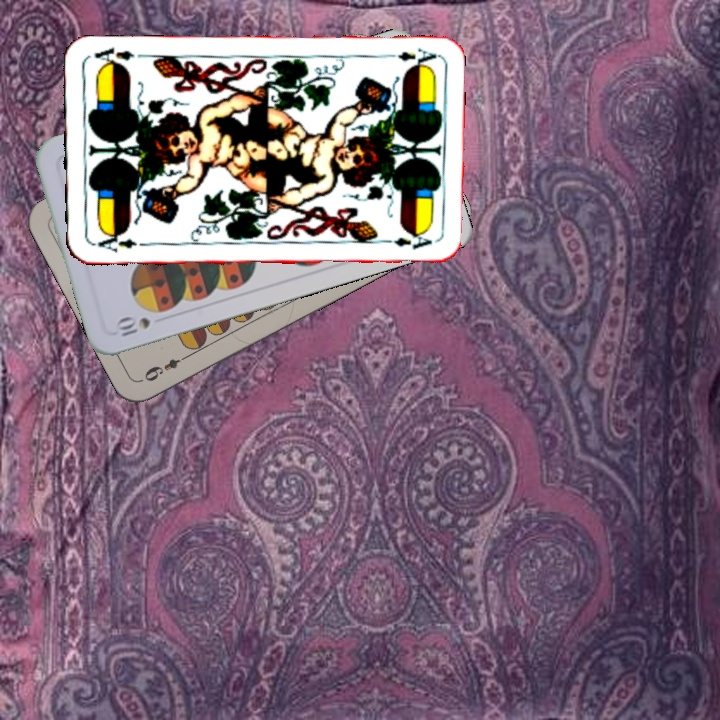E9: (140, 350, 192, 384)
EA: (90, 229, 149, 255), (379, 44, 438, 69)
S10: (112, 313, 153, 341)
